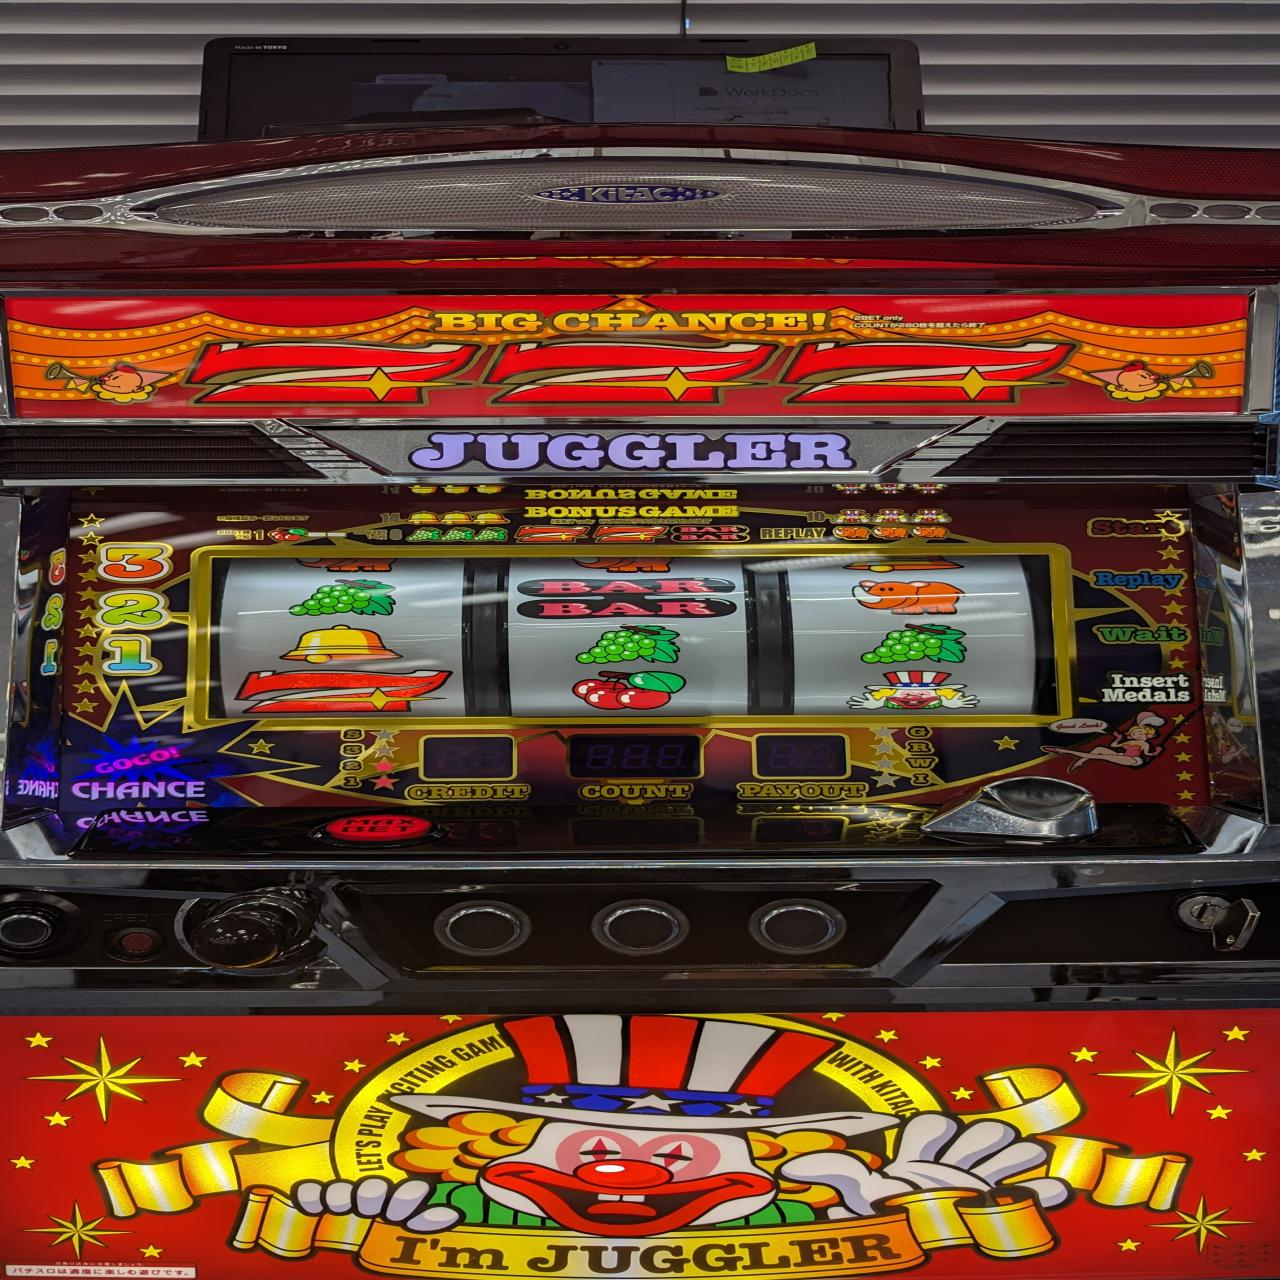7: (231, 669, 459, 715)
Display: (199, 547, 1069, 723)
bar: (510, 576, 737, 620)
bell: (280, 626, 407, 663)
cherry: (570, 669, 688, 712)
clown: (845, 670, 983, 709)
grape: (858, 621, 973, 667), (287, 578, 399, 618), (572, 624, 682, 663)
rhino: (851, 579, 966, 615)
